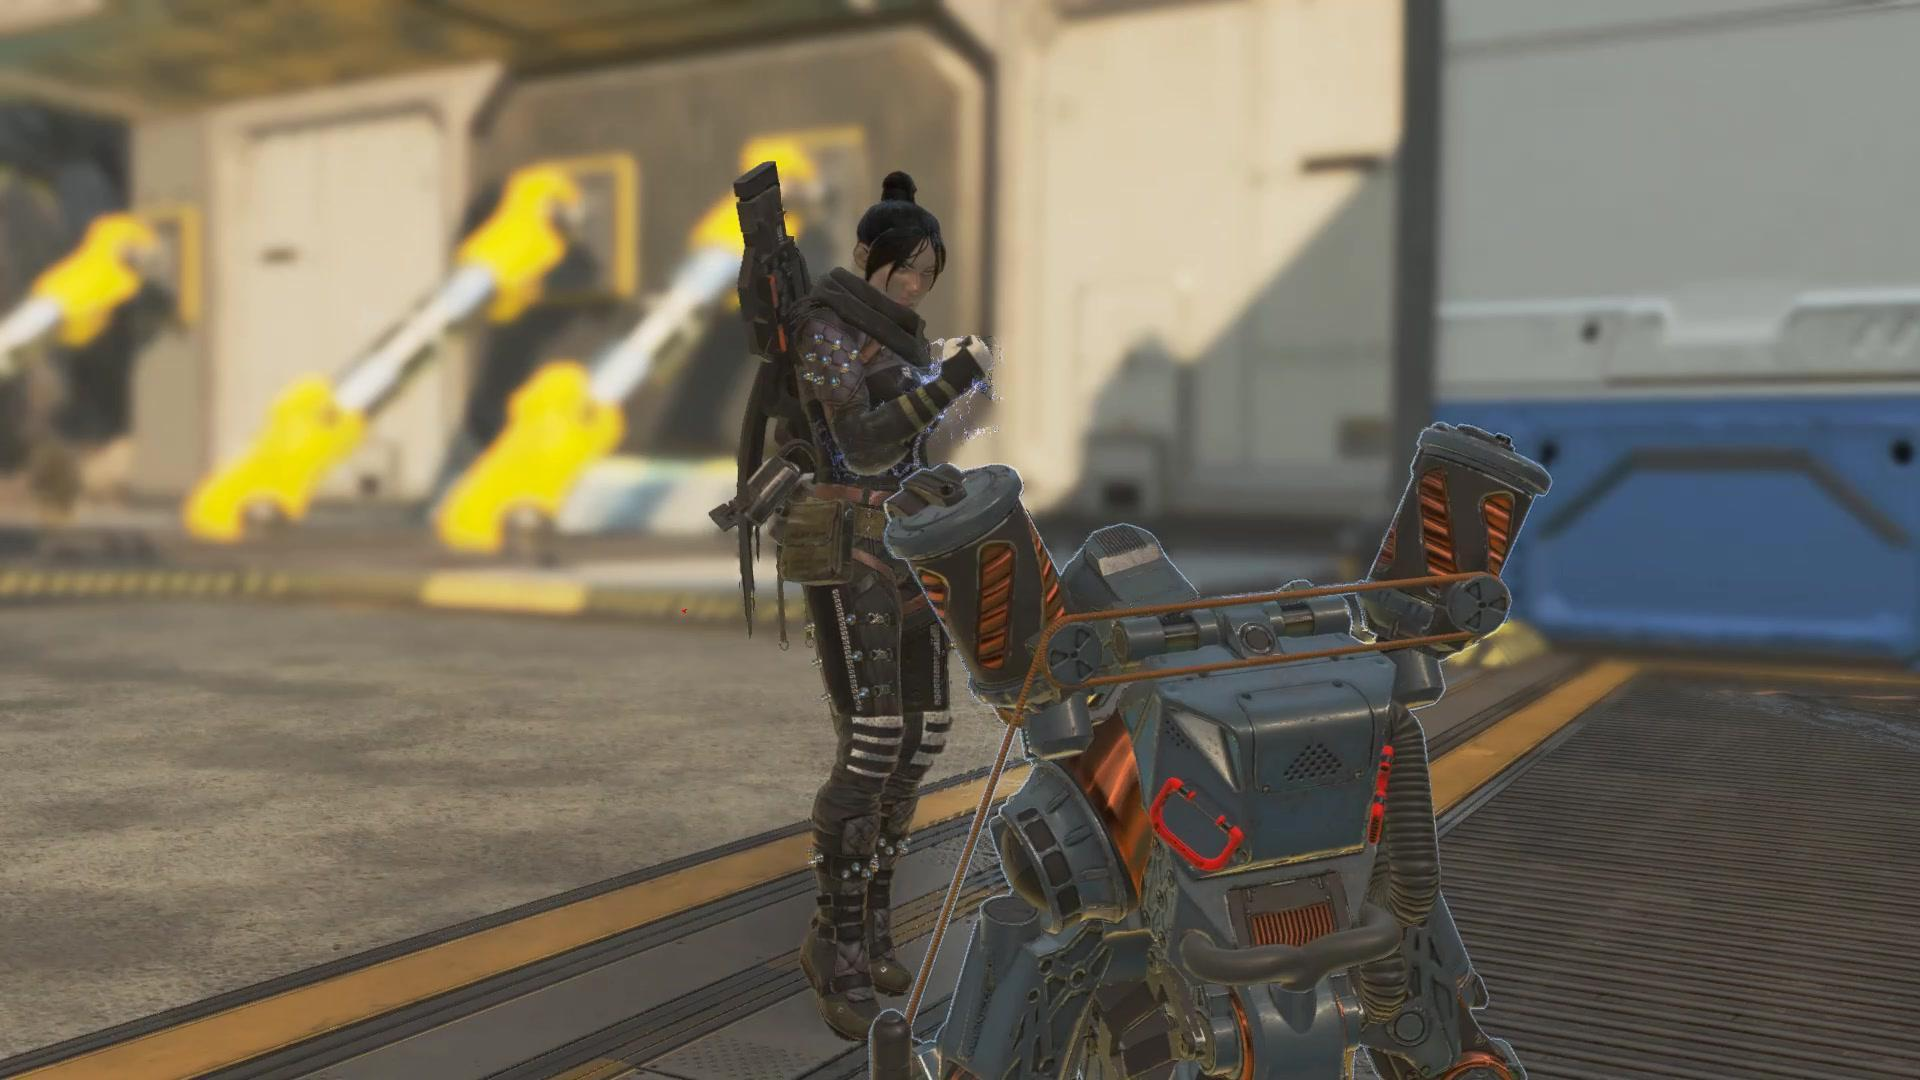avatar: (726, 165, 997, 1024)
